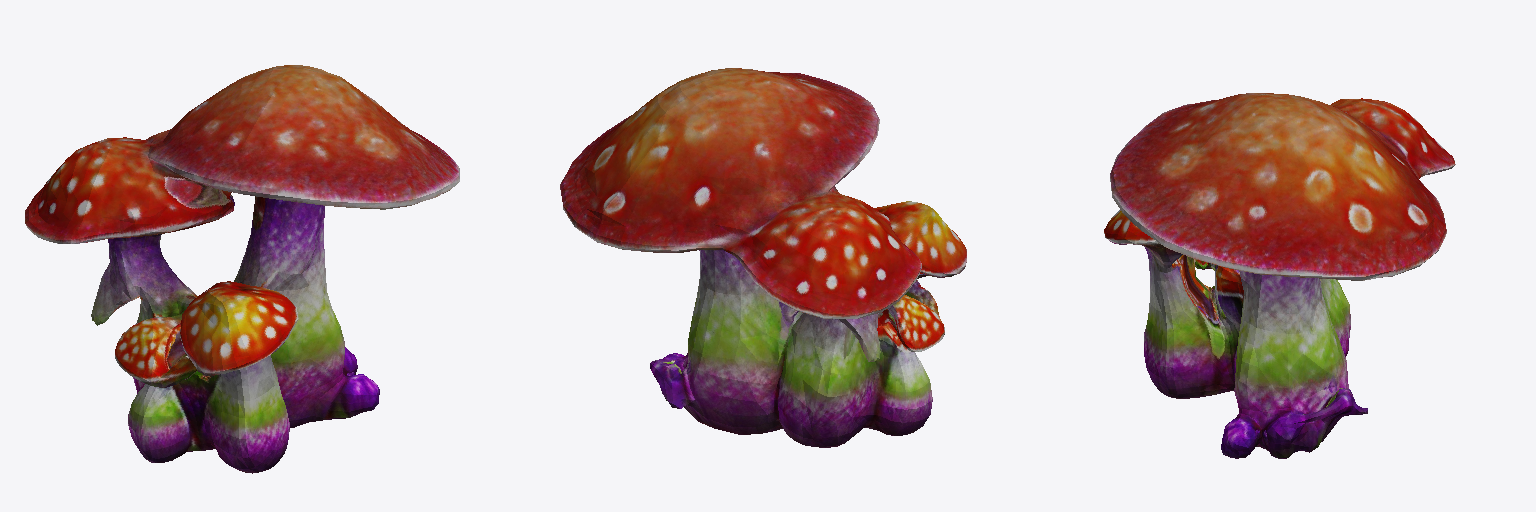
3 views of the same model, side by side, from view 1: azimuth 30°, elevation 25°; view 2: azimuth 150°, elevation 25°; view 3: azimuth 270°, elevation 25° (orthographic).
Visible parts, largest first — view 1: mesh; view 2: mesh; view 3: mesh.
Boxes of the visible parts, <box> form: mesh: <box>25,65,459,473</box>; mesh: <box>560,68,966,447</box>; mesh: <box>1104,93,1455,458</box>.
Size of the model in its own units: 0.9964 by 0.9143 by 0.8627.
Materials: 1 (1 with a texture image).